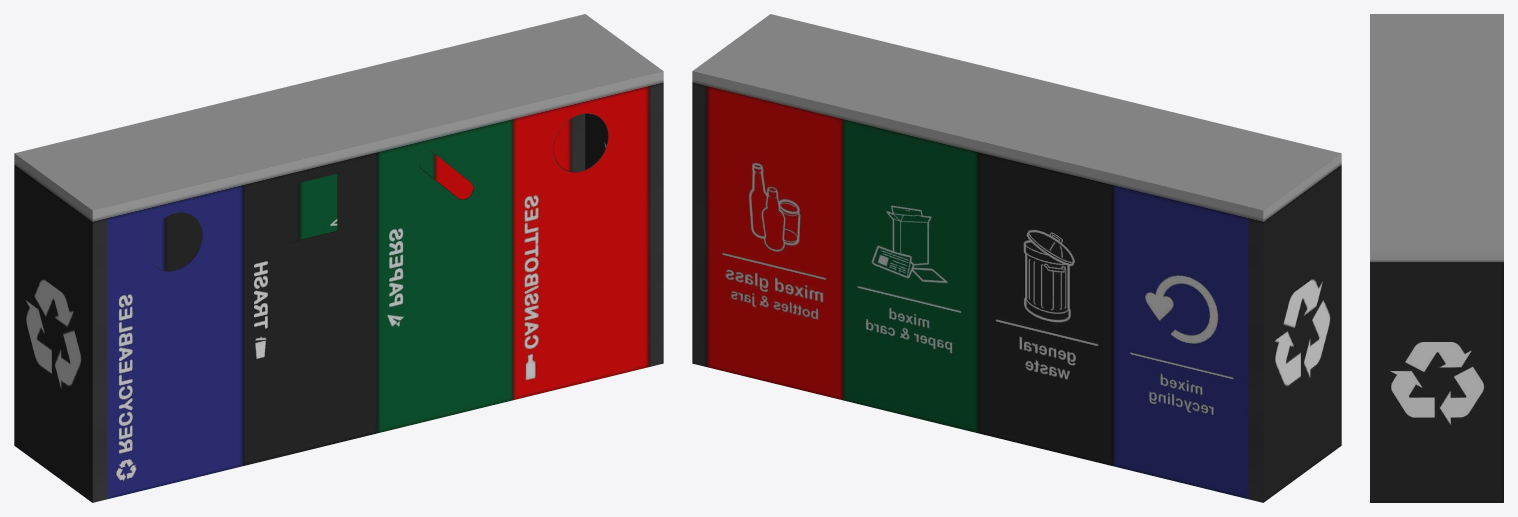
Rendered from Trashbin.fbx.
3 views of the same model, side by side, from view 1: azimuth 30°, elevation 25°; view 2: azimuth 150°, elevation 25°; view 3: azimuth 270°, elevation 25° (orthographic). The views are drawn at different scales.
Visible parts, largest first — view 1: trashbin-glass.001, trashbin-general.002, trashbin-plastic.001, trashbin-paper.002; view 2: trashbin-glass.001, trashbin-plastic.001, trashbin-general.002, trashbin-paper.002; view 3: trashbin-plastic.001, trashbin-paper.002, trashbin-general.002, trashbin-glass.001.
Part boxes in pixels (<box>): trashbin-glass.001: <box>14,118,235,502</box>; trashbin-general.002: <box>300,49,520,433</box>; trashbin-plastic.001: <box>442,14,663,398</box>; trashbin-paper.002: <box>157,83,377,467</box>; trashbin-glass.001: <box>1120,118,1341,502</box>; trashbin-plastic.001: <box>692,14,912,398</box>; trashbin-general.002: <box>835,49,1055,433</box>; trashbin-paper.002: <box>978,83,1198,467</box>; trashbin-plastic.001: <box>1370,193,1503,502</box>; trashbin-paper.002: <box>1370,73,1503,133</box>; trashbin-general.002: <box>1370,133,1503,192</box>; trashbin-glass.001: <box>1370,14,1503,73</box>.
Size of the model in its own units: 71.18 by 34.84 by 16.86.
4 materials, 3 textured.
